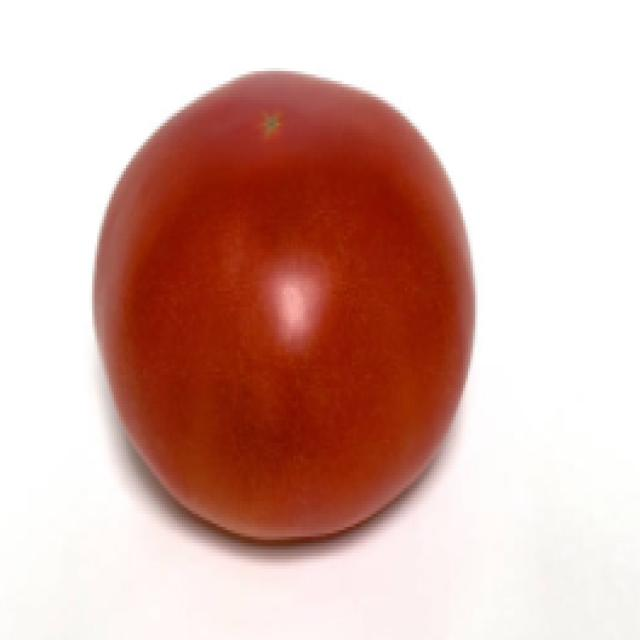Tomato: (96, 55, 496, 538)
